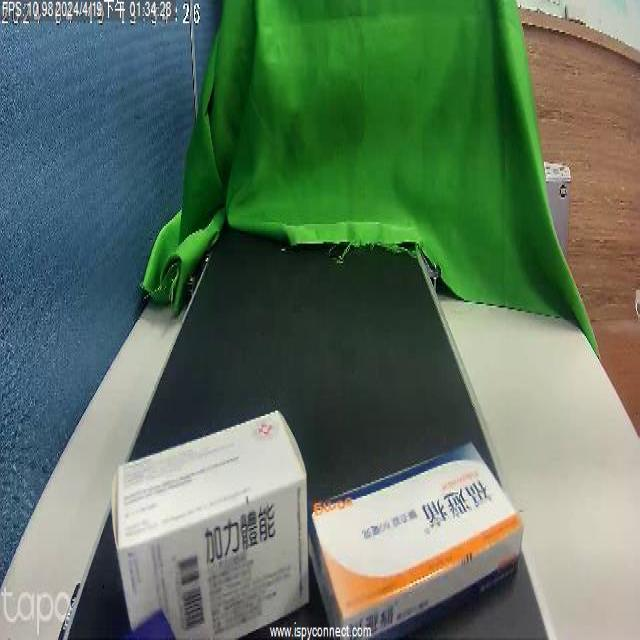box: (112, 443, 300, 621), (329, 463, 499, 626)
